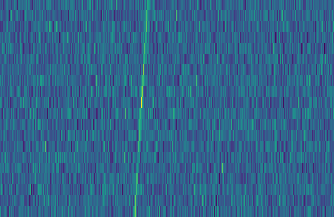signal: (130, 0, 152, 217)
